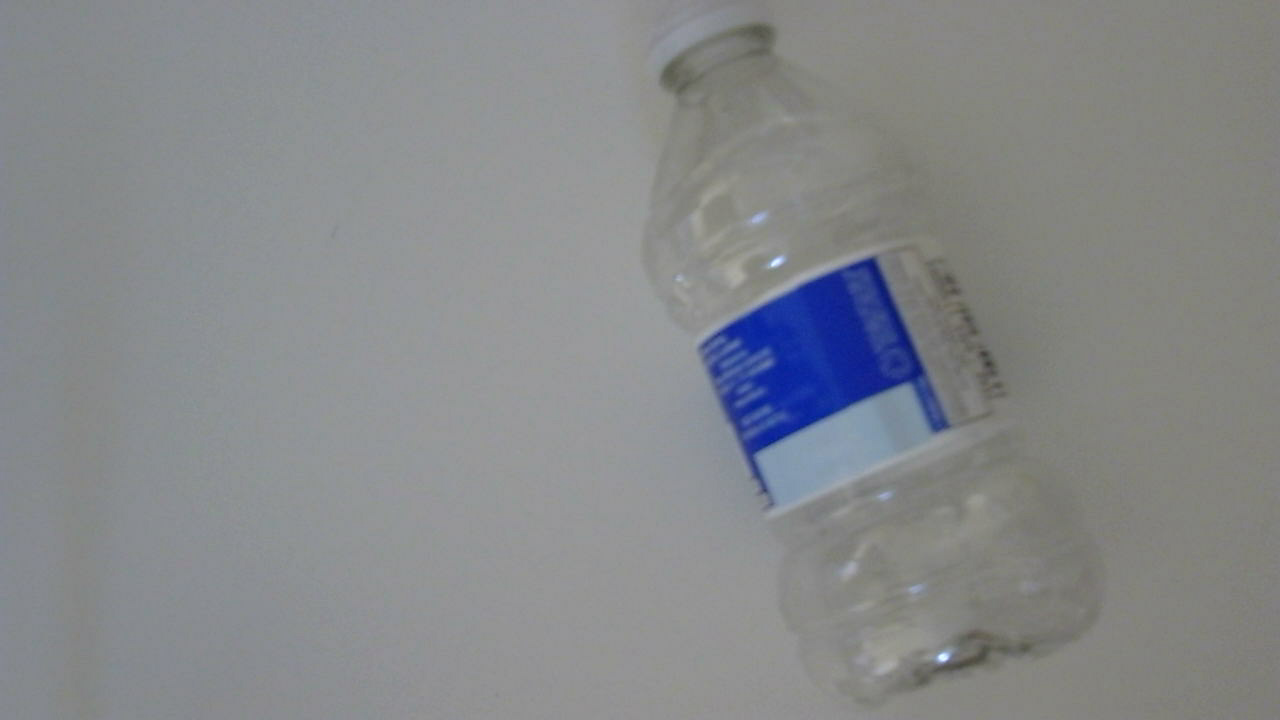Plastic Bottle: (630, 5, 1115, 708)
